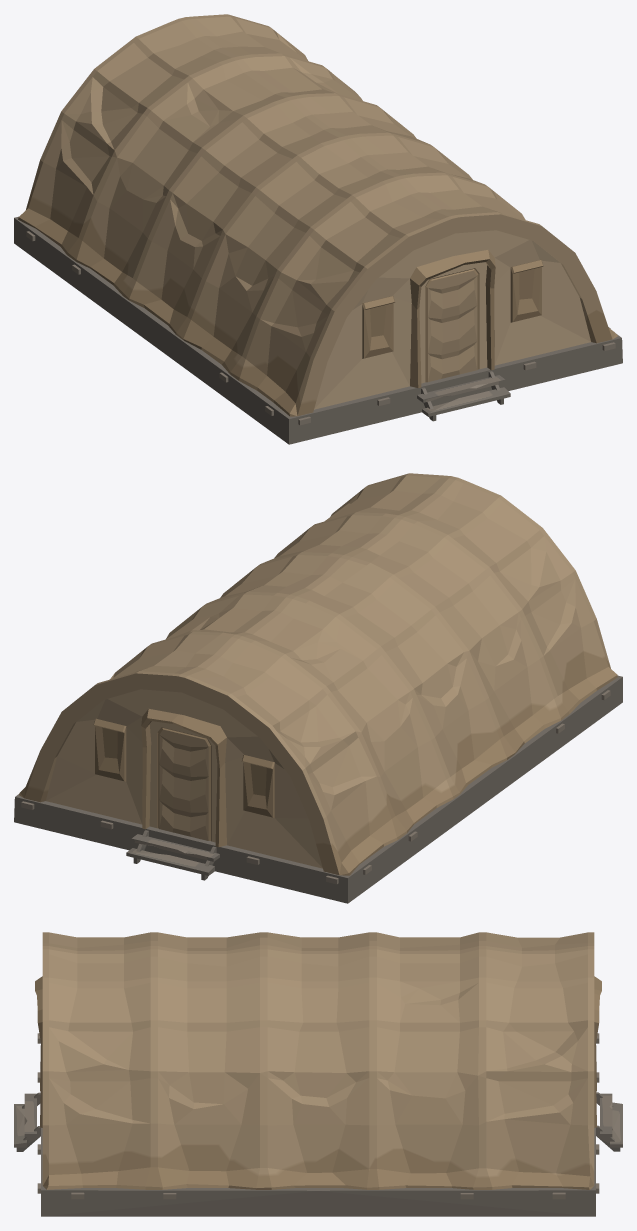
The model's file is SM_Bld_Tent_01.fbx.
The picture shows the model from 3 angles, top to bottom: view 1: azimuth 30°, elevation 25°; view 2: azimuth 150°, elevation 25°; view 3: azimuth 270°, elevation 25°; orthographic projection.
Parts seen in each view (by area): view 1: SM_Bld_Tent_01, SM_Bld_Tent_Door_01; view 2: SM_Bld_Tent_01, SM_Bld_Tent_Door_02; view 3: SM_Bld_Tent_01.
Part boxes in pixels (x1,y1,x2,y2): SM_Bld_Tent_01: (14,14,622,444); SM_Bld_Tent_Door_01: (425,269,478,382); SM_Bld_Tent_01: (14,473,622,903); SM_Bld_Tent_Door_02: (158,728,210,840); SM_Bld_Tent_01: (14,932,622,1216).
Size of the model in its own units: 780 by 407 by 1203.
